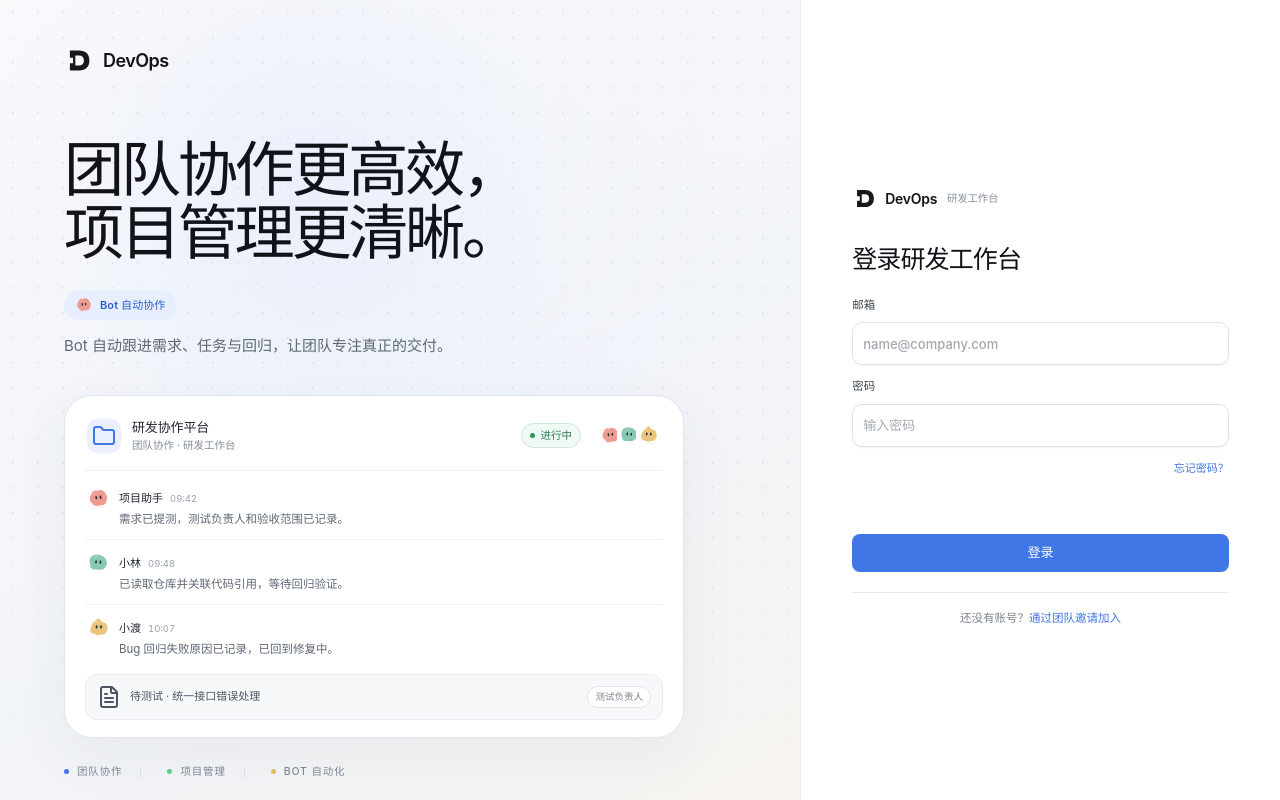
it: 登录后的会话重定向 › 从根路径登录后进入项目列表，不被登录前的空会话缓存重定向
The width and height of the screenshot is (1280, 800).
expect the heading "登录研发工作台" is shown: met, box top-left (852, 244), bottom-right (1021, 274)
Type "user@example.test" into the field labelled "邮箱". click: [1040, 344]
box: top-left (852, 322), bottom-right (1229, 365)
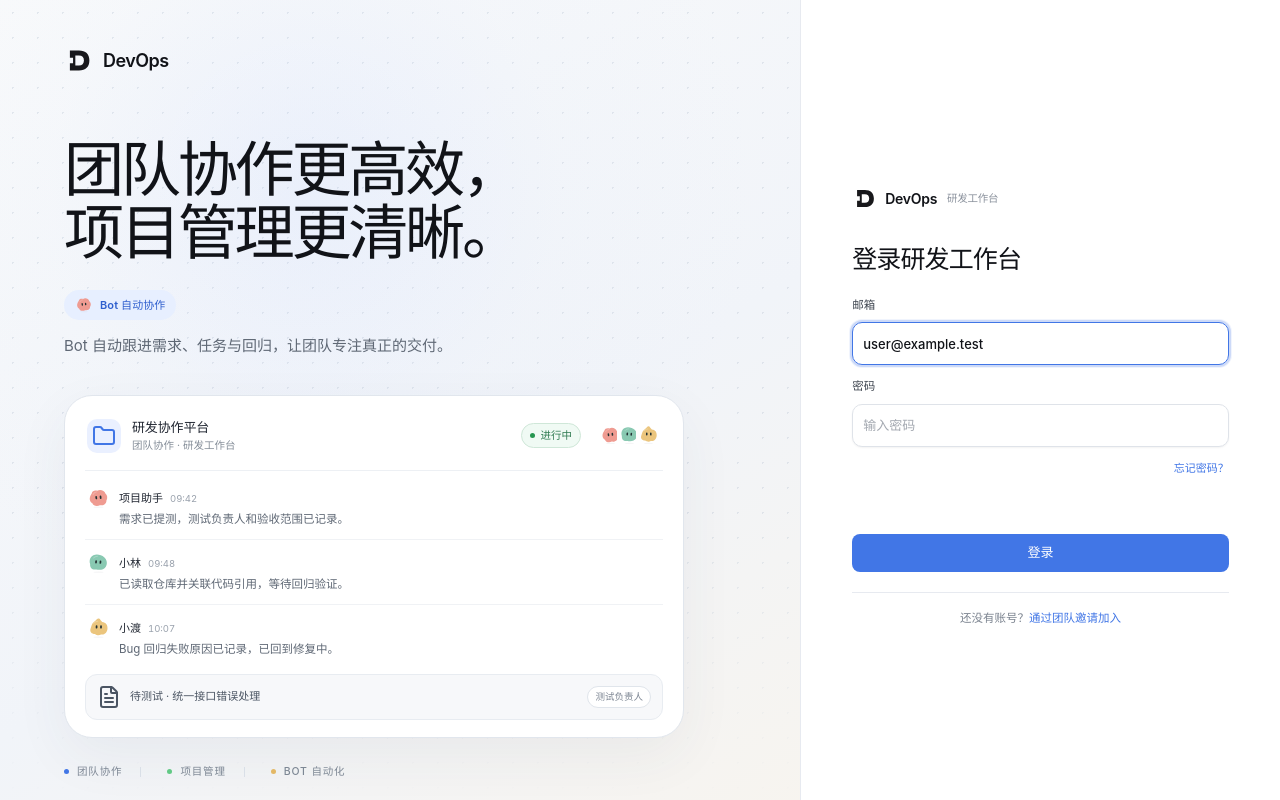
Type "password-123" into the password field labelled "密码". click: [1040, 425]
box: top-left (852, 404), bottom-right (1229, 447)
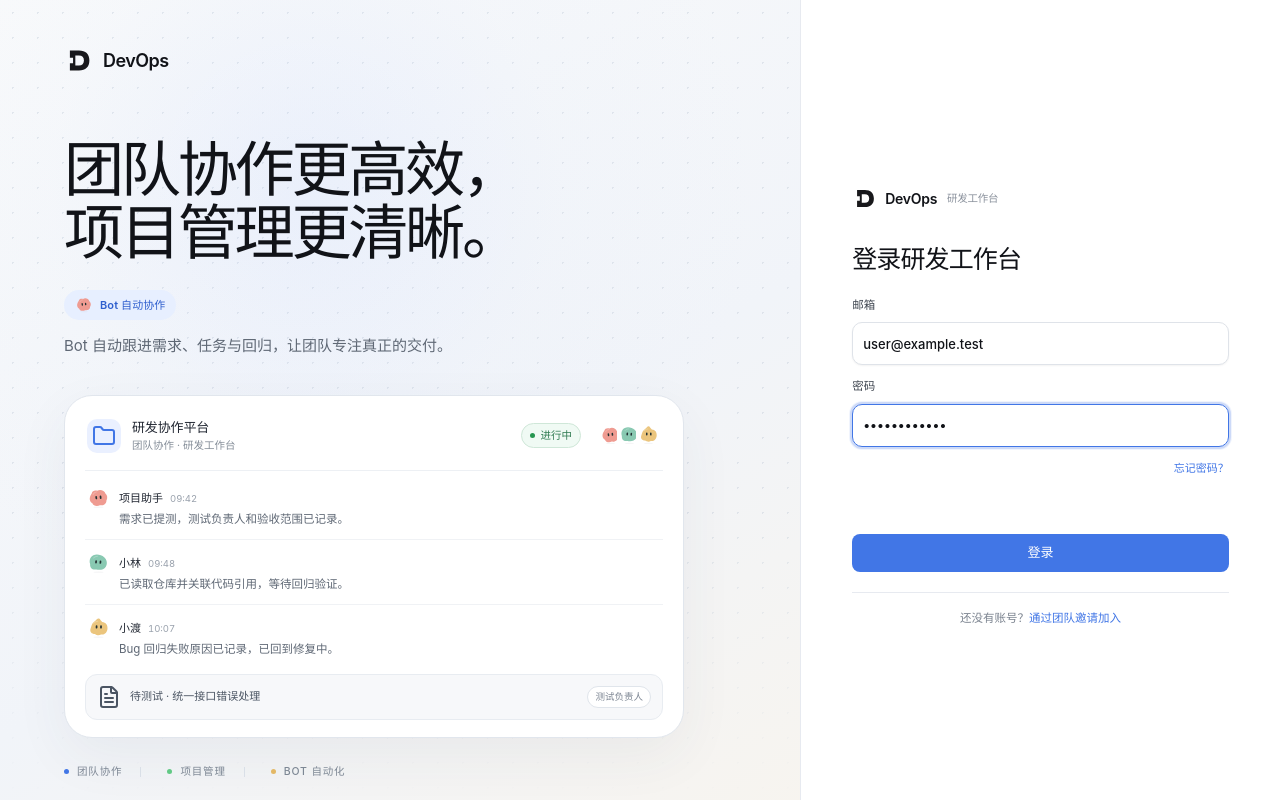
Click the button "登录". click: [1040, 553]
box: top-left (852, 534), bottom-right (1229, 572)
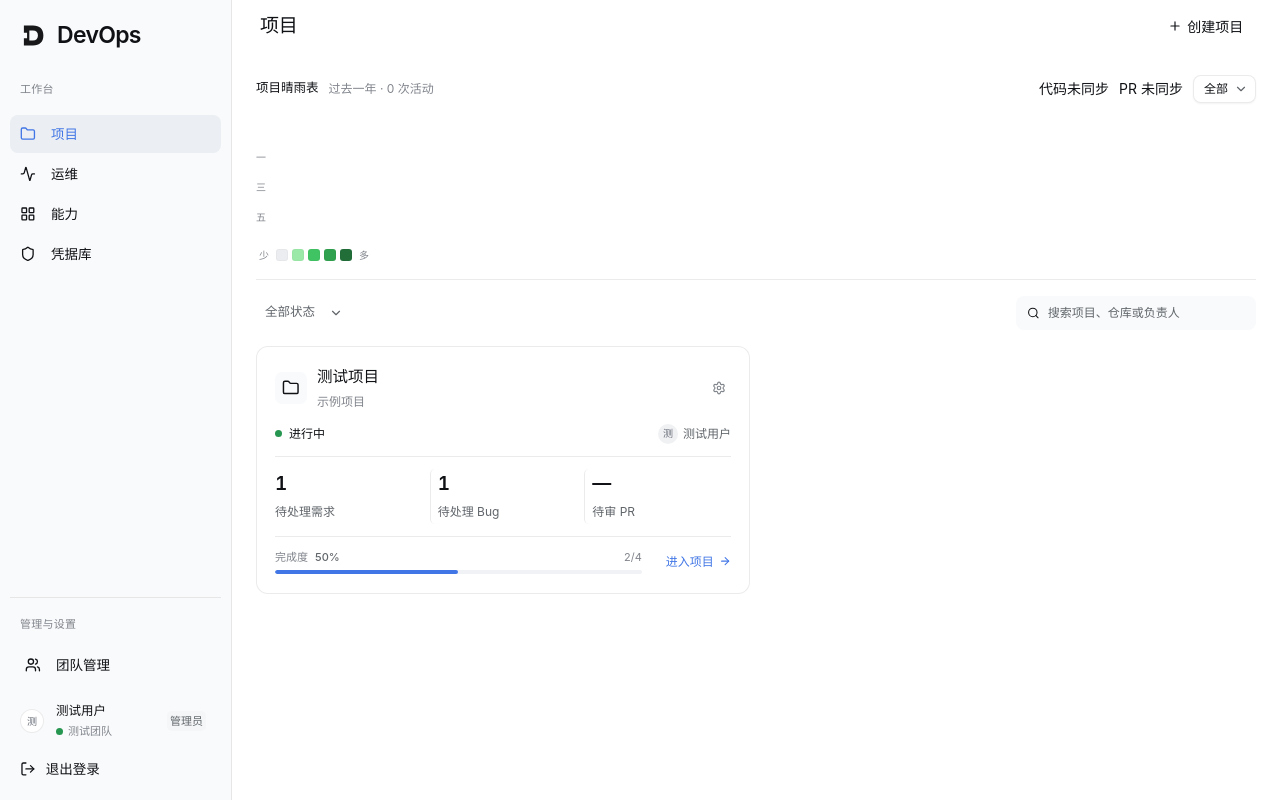
expect the heading "项目" is shown: met, box top-left (260, 12), bottom-right (298, 40)
